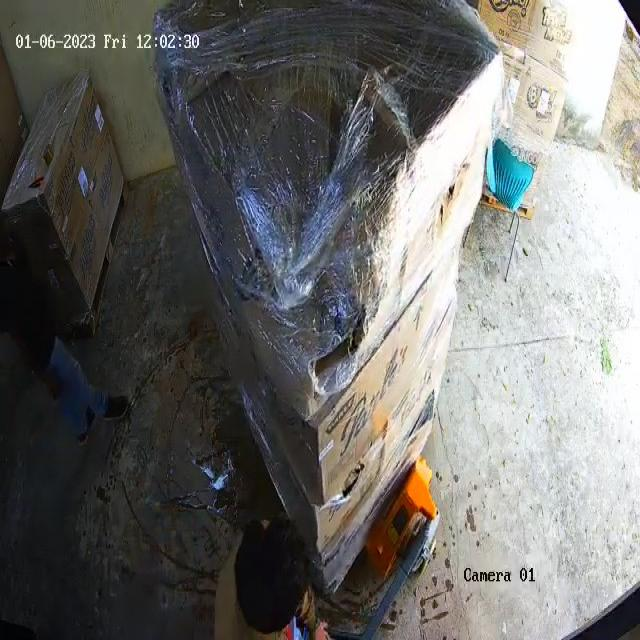leakage: (426, 149, 479, 228), (308, 327, 363, 400), (321, 457, 381, 522)
squeeze: (211, 71, 417, 263)
